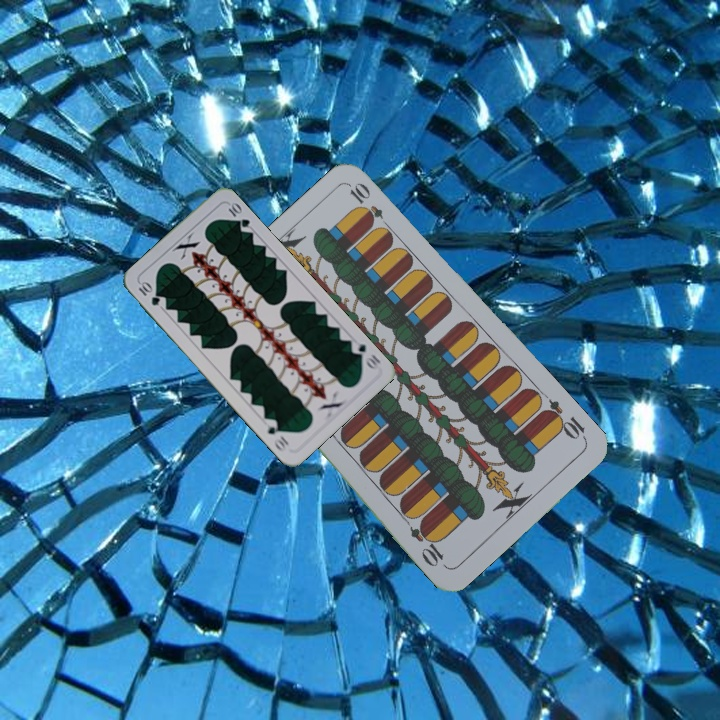E10: (538, 395, 589, 443)
G10: (346, 336, 383, 373), (134, 278, 163, 308)
